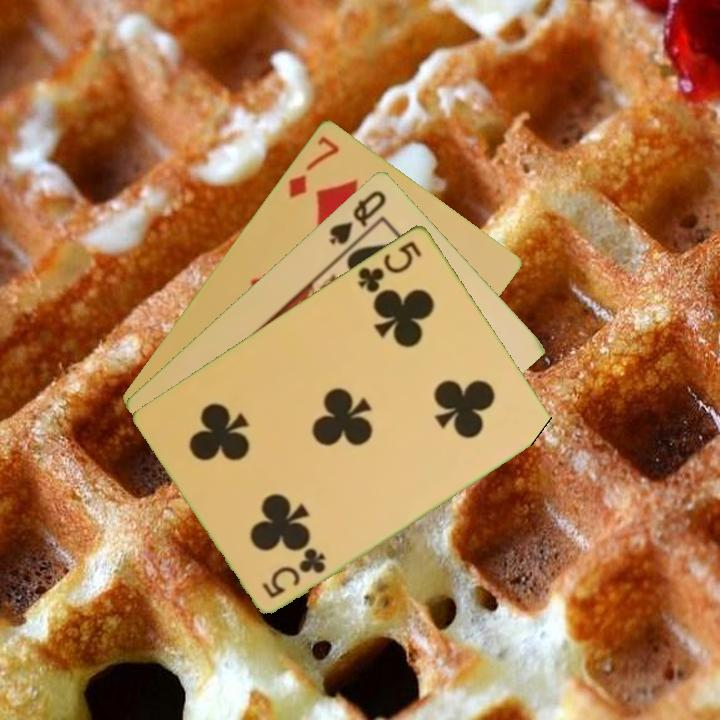5c: (354, 236, 425, 296), (258, 544, 329, 601)
7d: (284, 131, 342, 201)
Qs: (325, 186, 389, 247)
